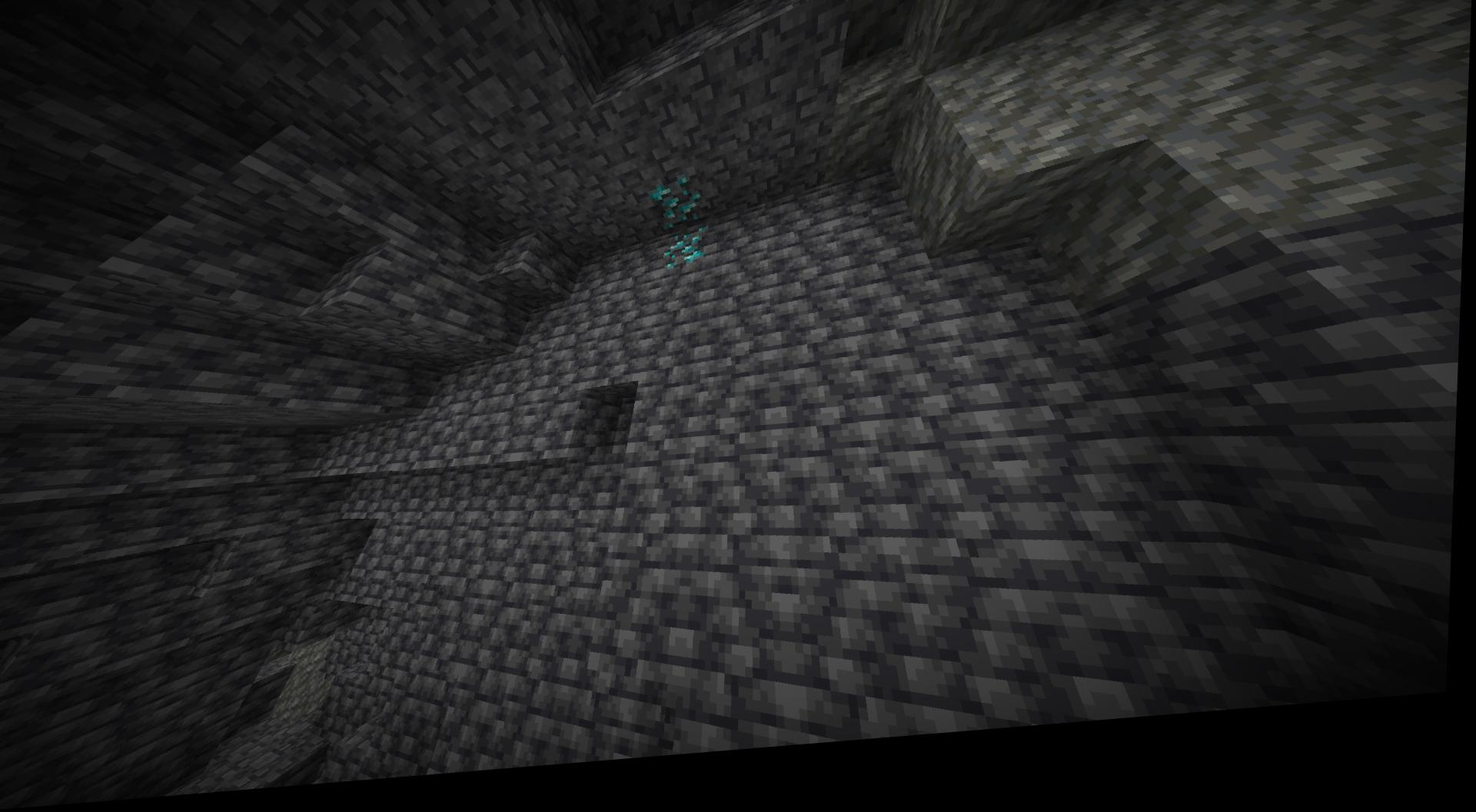diamond ore: (655, 184, 704, 244), (667, 242, 704, 282)
